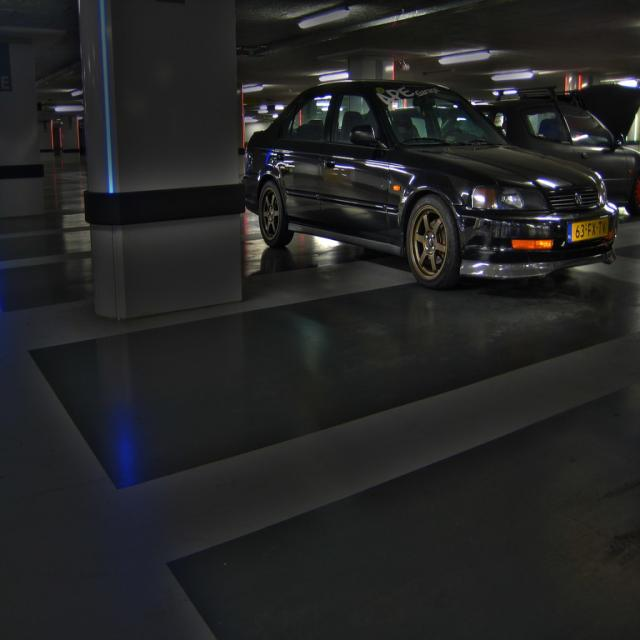car: (240, 67, 608, 275)
